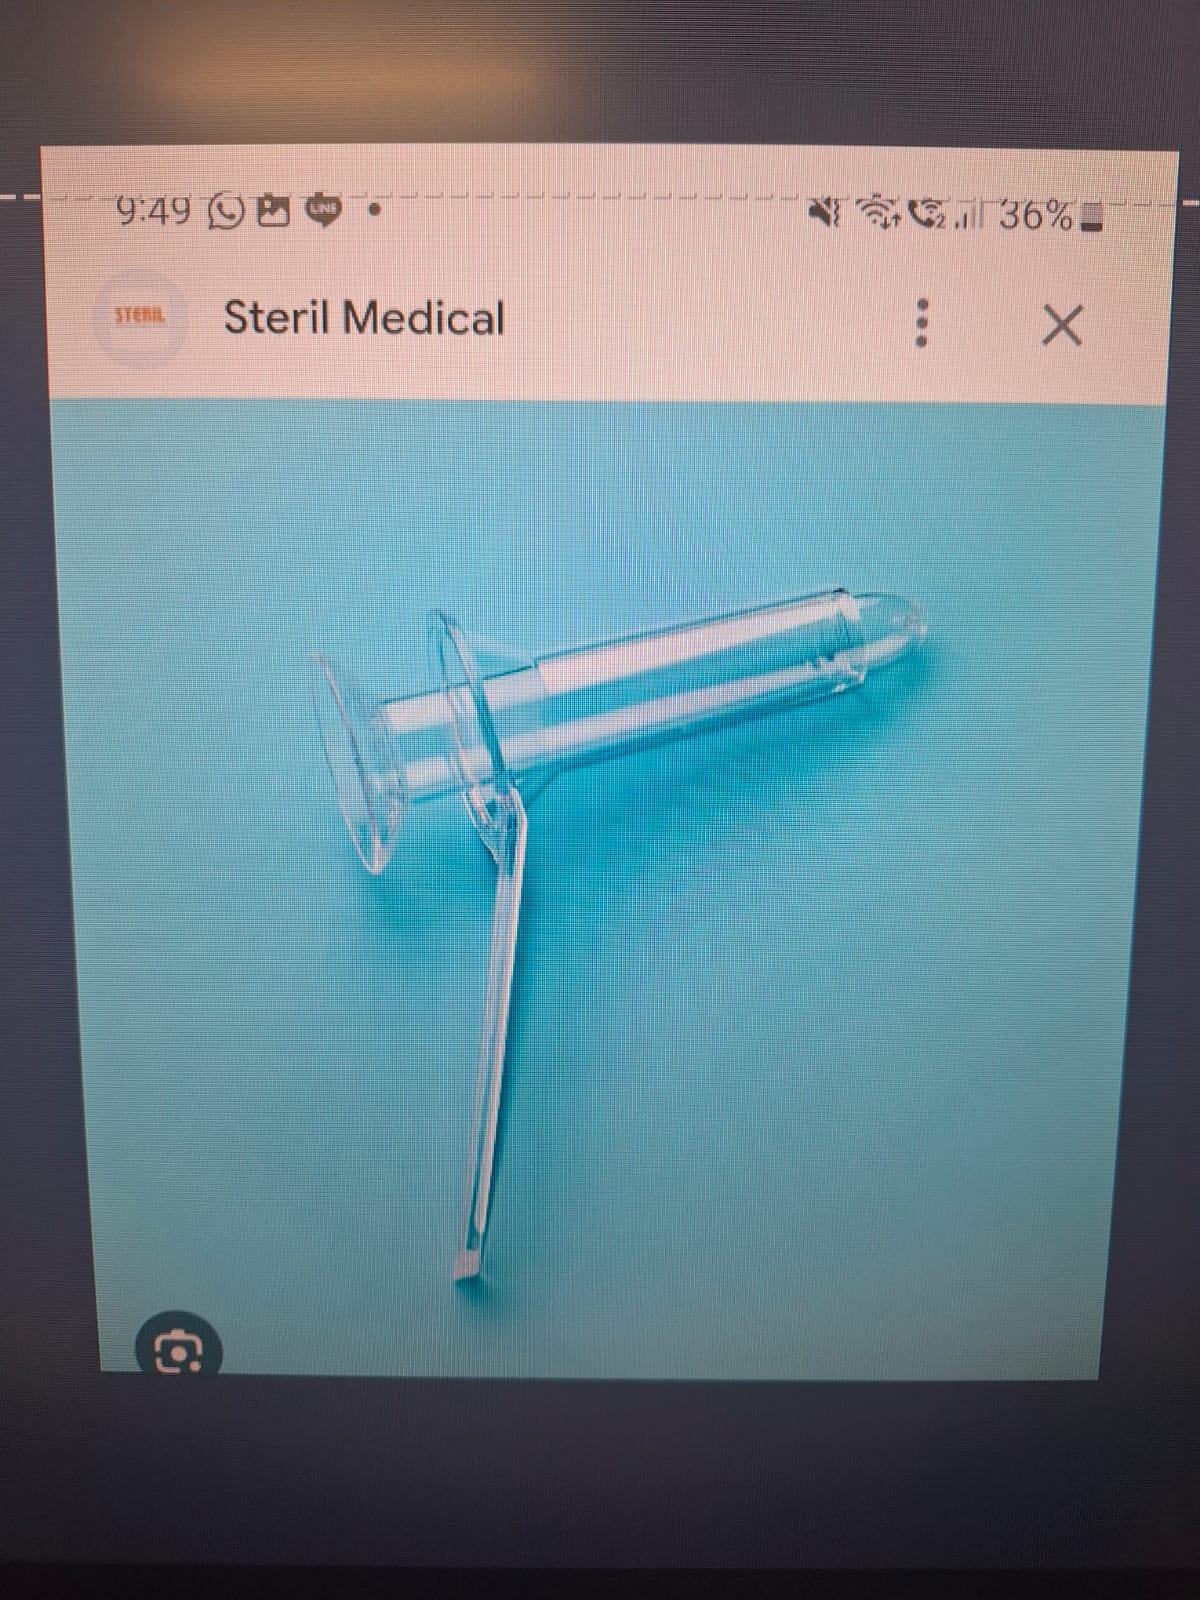Protoscope: (295, 562, 942, 1320)
